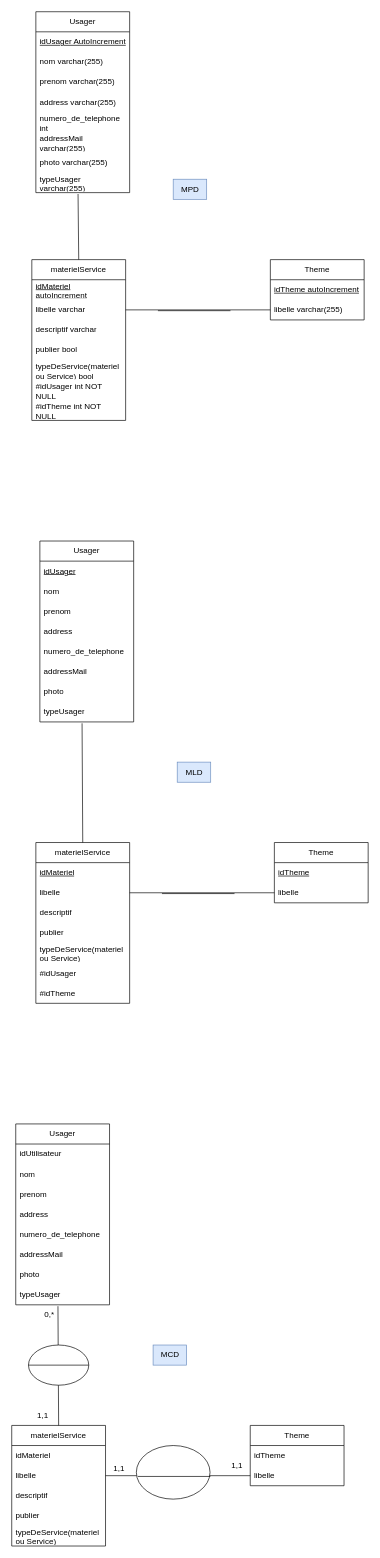
Some shapes in this 380 by 1558 pixel diagram are drawn without their labels. The centre of each missing label's shape, as x and y in pixels:
"appartient à" goes at point 173,1472.
"offre" goes at point 58,1364.
